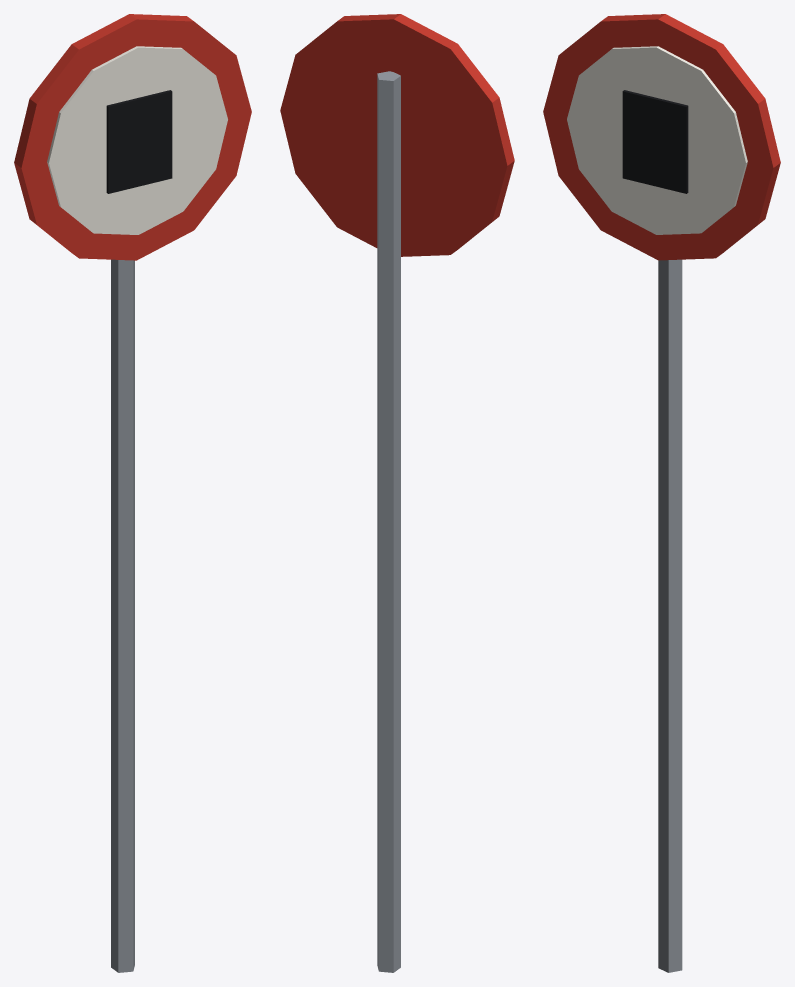
File: sign_speed.glb
3 views of the same model, side by side, from view 1: azimuth 30°, elevation 25°; view 2: azimuth 150°, elevation 25°; view 3: azimuth 330°, elevation 25° (orthographic).
Visible parts, largest first — view 1: sign_speed; view 2: sign_speed; view 3: sign_speed.
Boxes of the visible parts, x1=… form: sign_speed: x1=14, y1=14, x2=251, y2=972; sign_speed: x1=280, y1=14, x2=514, y2=972; sign_speed: x1=543, y1=14, x2=780, y2=972.
Size of the model in its own units: 0.72 by 2.86 by 0.1233.
